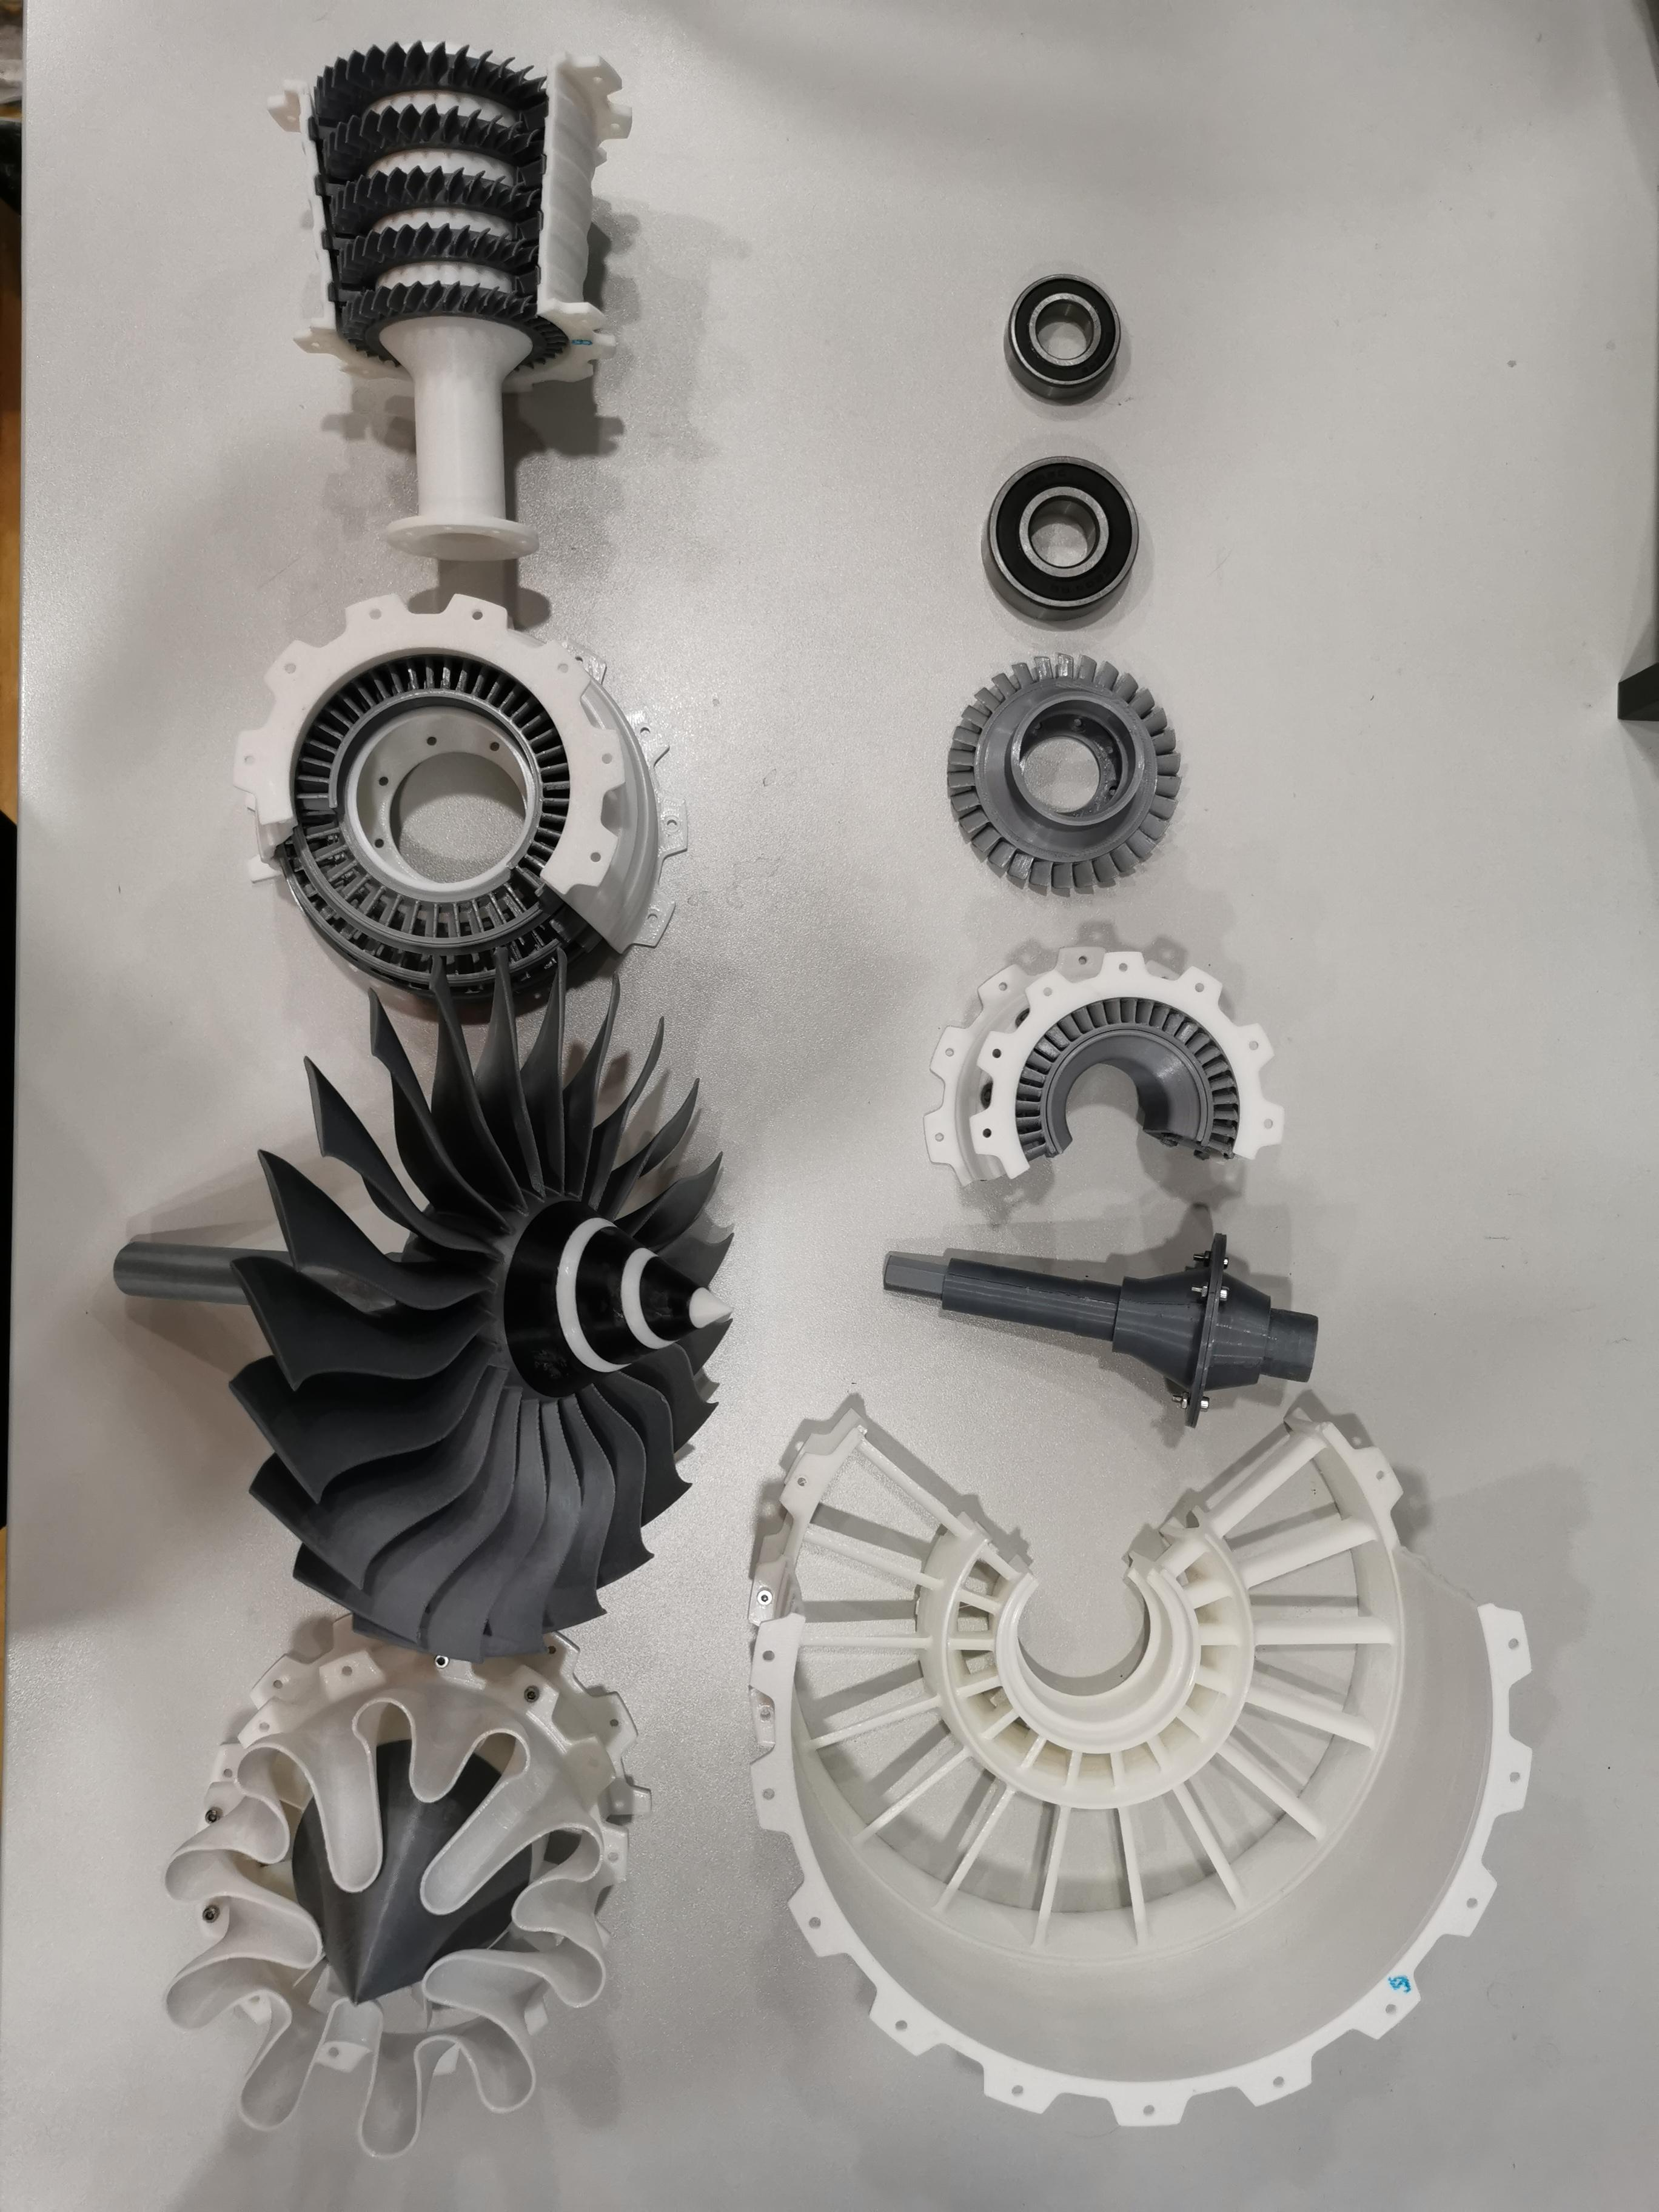Bearing-6003: (969, 247, 1154, 418)
Bearing-6204: (951, 432, 1180, 641)
Combustion Section: (903, 927, 1297, 1204)
Fan Casing and Support: (741, 1392, 1540, 2146)
Fan and Low Pressure Shaft: (96, 951, 746, 1669)
HPT Section: (920, 643, 1211, 904)
High Pressure Spool: (244, 33, 652, 582)
LPT Section: (220, 582, 701, 1019)
Low Pressure Spool: (856, 1207, 1335, 1435)
Nozzle Section: (146, 1613, 660, 2179)
